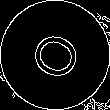O_SE: (22, 24, 88, 86)
